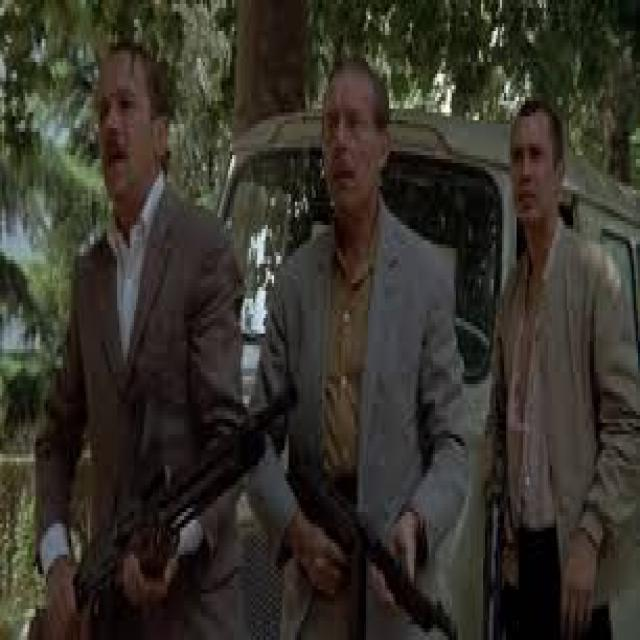weapon: (30, 380, 298, 632), (287, 446, 459, 638)
